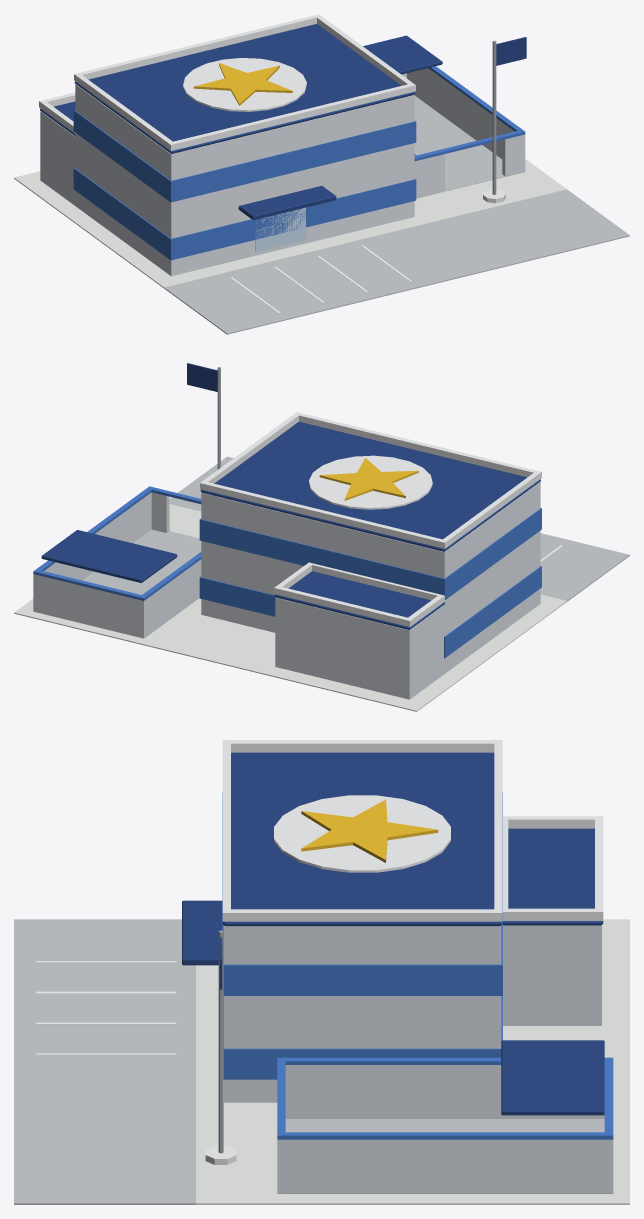
Rendered from police.glb.
3 renders of one model, top to bottom at view 1: azimuth 30°, elevation 25°; view 2: azimuth 150°, elevation 25°; view 3: azimuth 270°, elevation 25°, orthographic. The views are drawn at different scales.
Parts seen in each view (by area): view 1: police; view 2: police; view 3: police.
Boxes of the visible parts, x1=… form: police: x1=14, y1=14, x2=629, y2=334; police: x1=14, y1=363, x2=629, y2=711; police: x1=14, y1=740, x2=629, y2=1204.
Bounding box in the file's own units: 24 × 9 × 22.
